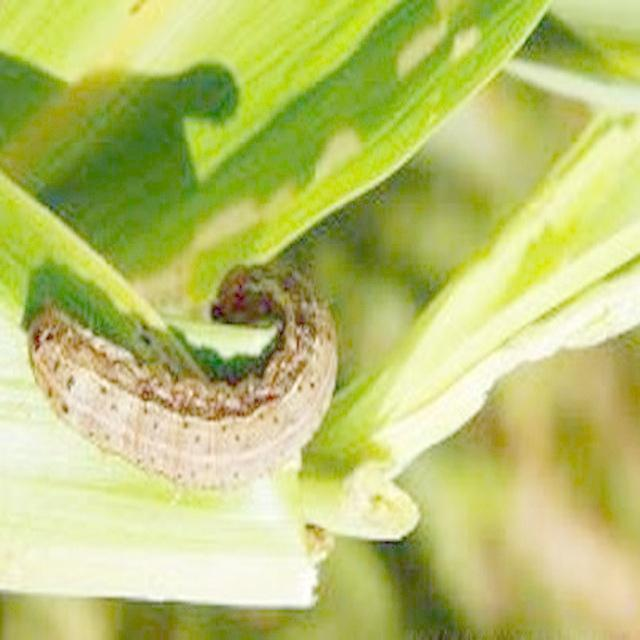gusano_cogollero: (22, 263, 342, 495)
